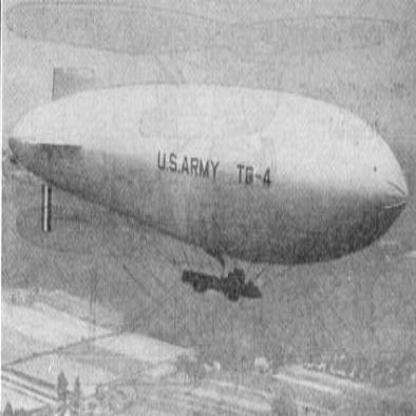Airship: (13, 68, 412, 272)
